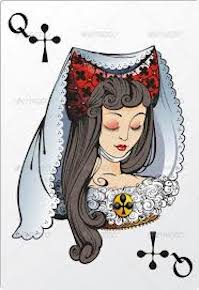QueenOfClubs: (2, 1, 199, 287)
